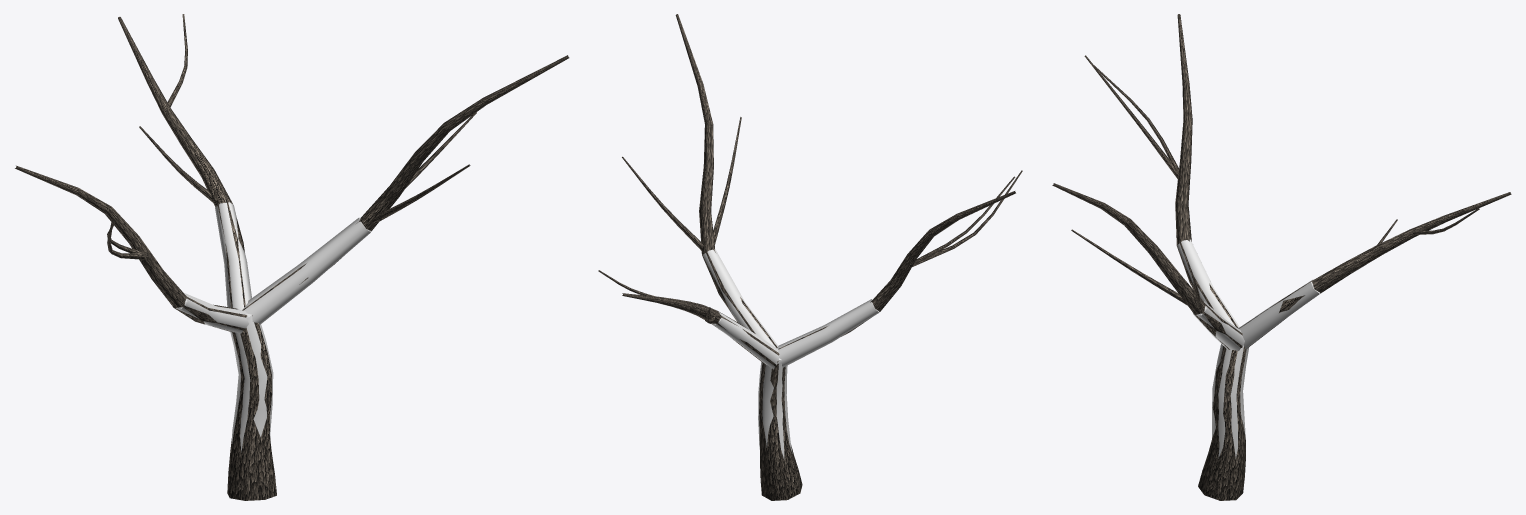
The model's file is Arvore-Morta-01-Galhada.glb.
3 renders of one model, left to right at view 1: azimuth 30°, elevation 25°; view 2: azimuth 150°, elevation 25°; view 3: azimuth 270°, elevation 25°, orthographic. The views are drawn at different scales.
Visible parts, largest first — view 1: Arvore-Morta-01-Galhada, Arvore-Morta-01-Galhada_COL; view 2: Arvore-Morta-01-Galhada, Arvore-Morta-01-Galhada_COL; view 3: Arvore-Morta-01-Galhada, Arvore-Morta-01-Galhada_COL.
Boxes of the visible parts, left/top/right/bottom form: Arvore-Morta-01-Galhada: left=15, top=14, right=569, bottom=500; Arvore-Morta-01-Galhada_COL: left=173, top=202, right=370, bottom=452; Arvore-Morta-01-Galhada: left=598, top=14, right=1022, bottom=500; Arvore-Morta-01-Galhada_COL: left=703, top=249, right=879, bottom=459; Arvore-Morta-01-Galhada: left=1052, top=14, right=1511, bottom=500; Arvore-Morta-01-Galhada_COL: left=1177, top=239, right=1320, bottom=458.
Size of what is drawn, in the model's own units: 6.42 by 5.8 by 5.95.
Materials: 1 (1 with a texture image).
